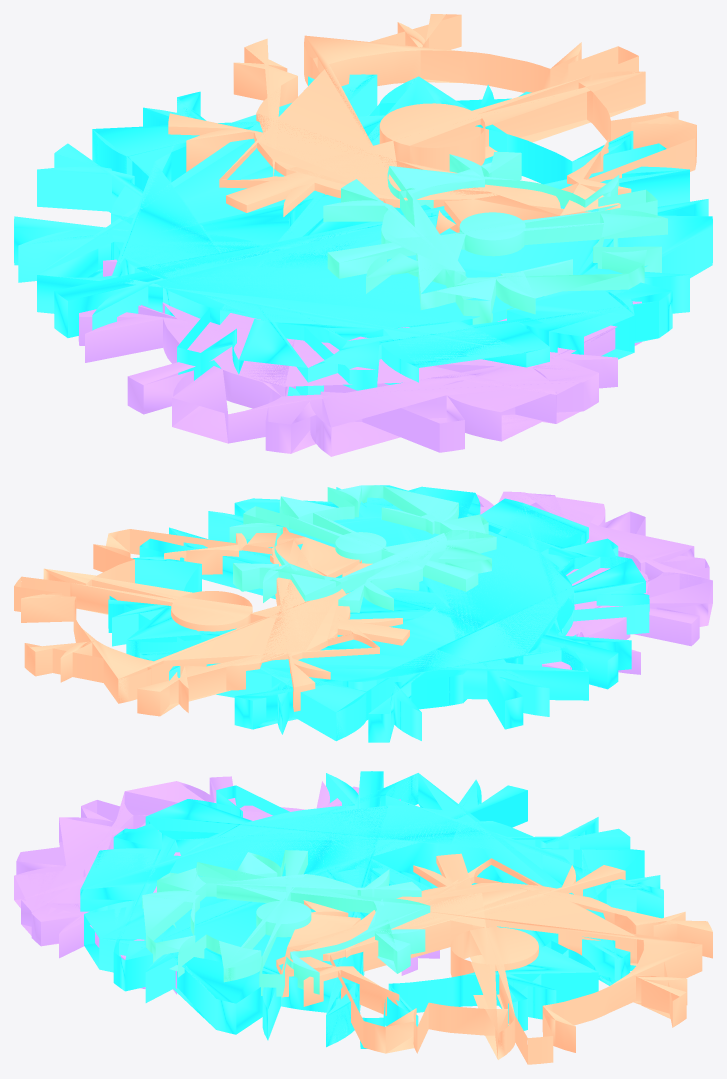
Rendered from Gears.glb.
3 views of the same model, one above another, from view 1: azimuth 30°, elevation 25°; view 2: azimuth 150°, elevation 25°; view 3: azimuth 270°, elevation 25° (orthographic). The views are drawn at different scales.
Visible parts, largest first — view 1: Gear_CRM, Gear_Marketing, Gear_Automations, Gear_Analytics; view 2: Gear_CRM, Gear_Marketing, Gear_Analytics, Gear_Automations; view 3: Gear_CRM, Gear_Marketing, Gear_Analytics, Gear_Automations.
Boxes of the visible parts, x1,y1,x2,y2 form: Gear_CRM: (14, 74, 712, 395); Gear_Marketing: (168, 14, 696, 233); Gear_Automations: (78, 259, 641, 456); Gear_Analytics: (323, 152, 667, 324); Gear_CRM: (108, 485, 649, 742); Gear_Marketing: (14, 527, 409, 716); Gear_Analytics: (229, 485, 496, 612); Gear_Automations: (476, 491, 712, 687); Gear_CRM: (80, 771, 663, 1048); Gear_Marketing: (276, 853, 712, 1064); Gear_Analytics: (142, 850, 430, 996); Gear_Automations: (14, 776, 439, 994).
Bounding box in the file's own units: 1.35 × 0.1128 × 1.42.
